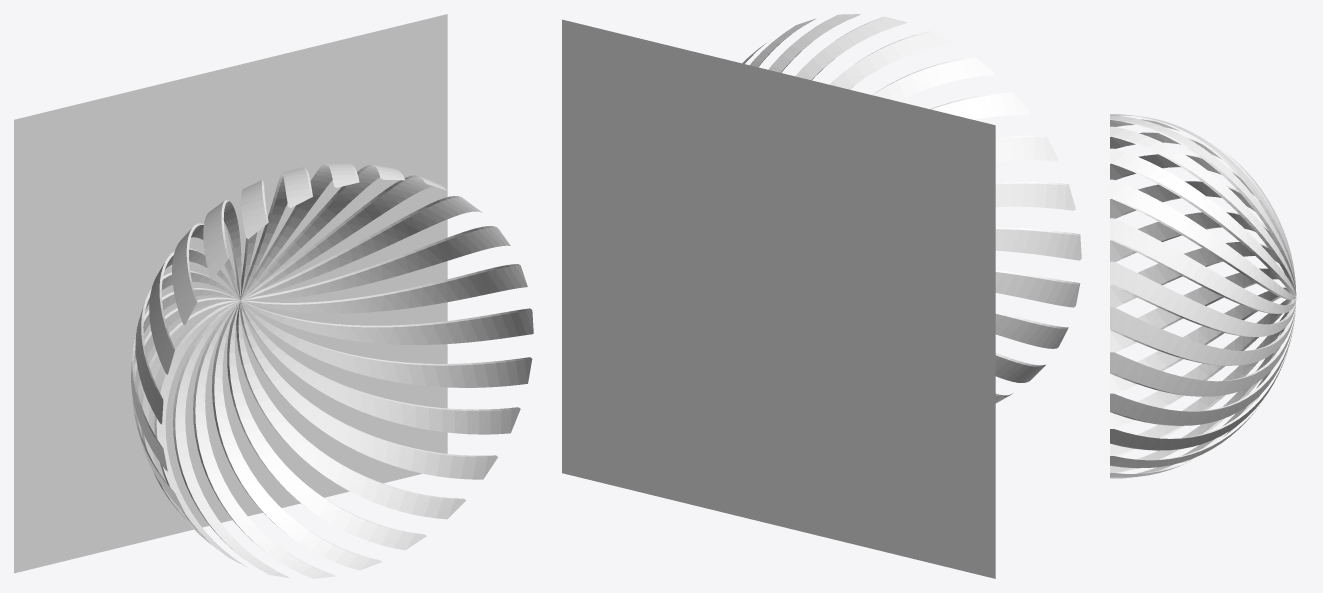
File: titleBG.obj
3 views of the same model, side by side, from view 1: azimuth 30°, elevation 25°; view 2: azimuth 150°, elevation 25°; view 3: azimuth 270°, elevation 25° (orthographic). The views are drawn at different scales.
Parts seen in each view (by area): view 1: 平面, 球體.001; view 2: 平面, 球體.001; view 3: 球體.001.
Boxes of the visible parts, <box> form: 平面: <box>14,14,447,573</box>; 球體.001: <box>131,163,533,578</box>; 平面: <box>562,19,995,578</box>; 球體.001: <box>742,14,1081,403</box>; 球體.001: <box>1110,114,1296,478</box>.
Size of the model in its own units: 2.33 by 2.33 by 1.09.
2 materials, 2 textured.
